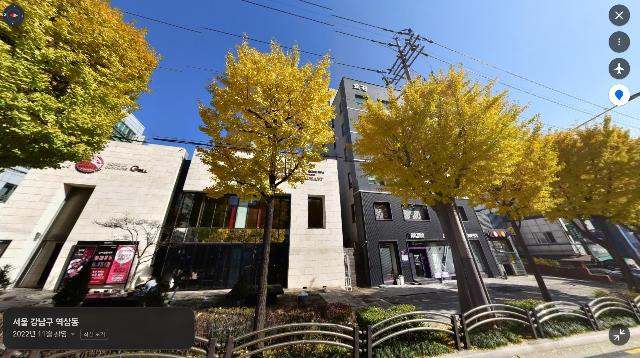ginkgo: (349, 61, 537, 343), (193, 31, 341, 358), (0, 0, 162, 173), (473, 112, 573, 313), (545, 116, 640, 299)
